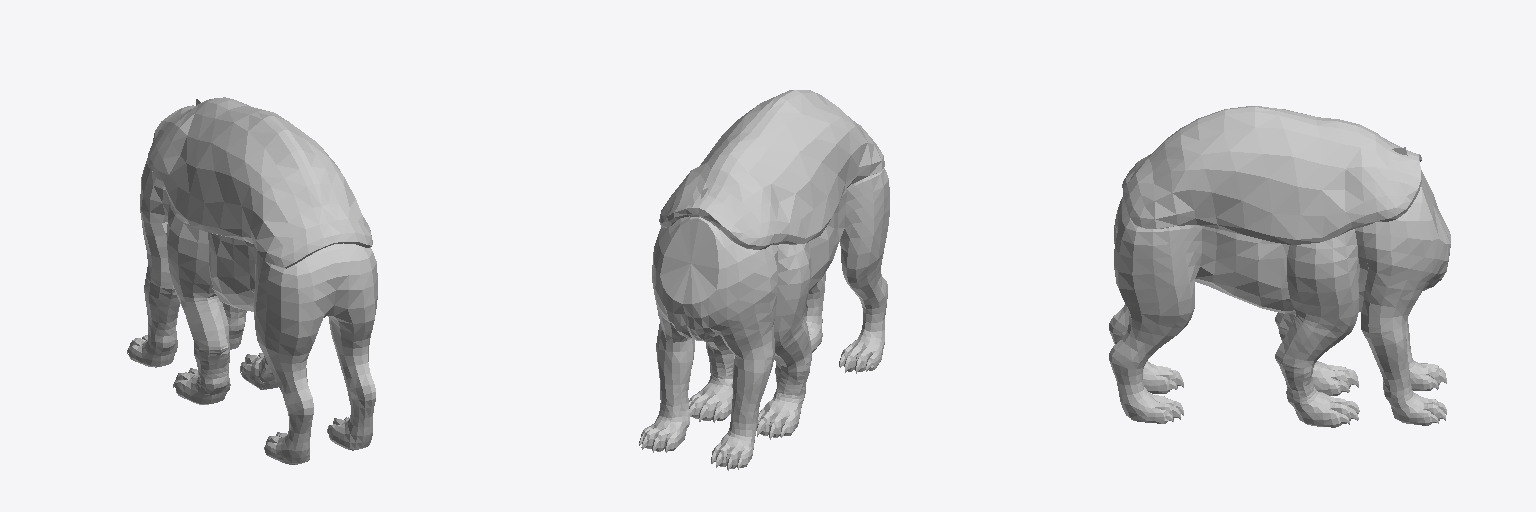
Rendered from SIXLEGCAT.obj.
3 views of the same model, side by side, from view 1: azimuth 30°, elevation 25°; view 2: azimuth 150°, elevation 25°; view 3: azimuth 270°, elevation 25° (orthographic).
Visible parts, largest first — view 1: _Body_SixLegCat, _B6CA_TurtShell1xRARE; view 2: _Body_SixLegCat, _B6CA_TurtShell1xRARE; view 3: _Body_SixLegCat, _B6CA_TurtShell1xRARE.
Part boxes in pixels (left/top/right/bottom): _Body_SixLegCat: left=127, top=161, right=377, bottom=464; _B6CA_TurtShell1xRARE: left=147, top=97, right=372, bottom=268; _Body_SixLegCat: left=639, top=168, right=889, bottom=470; _B6CA_TurtShell1xRARE: left=659, top=90, right=884, bottom=249; _Body_SixLegCat: left=1109, top=170, right=1450, bottom=427; _B6CA_TurtShell1xRARE: left=1122, top=106, right=1421, bottom=244.
Size of the model in its own units: 1.16 by 2.71 by 2.81.